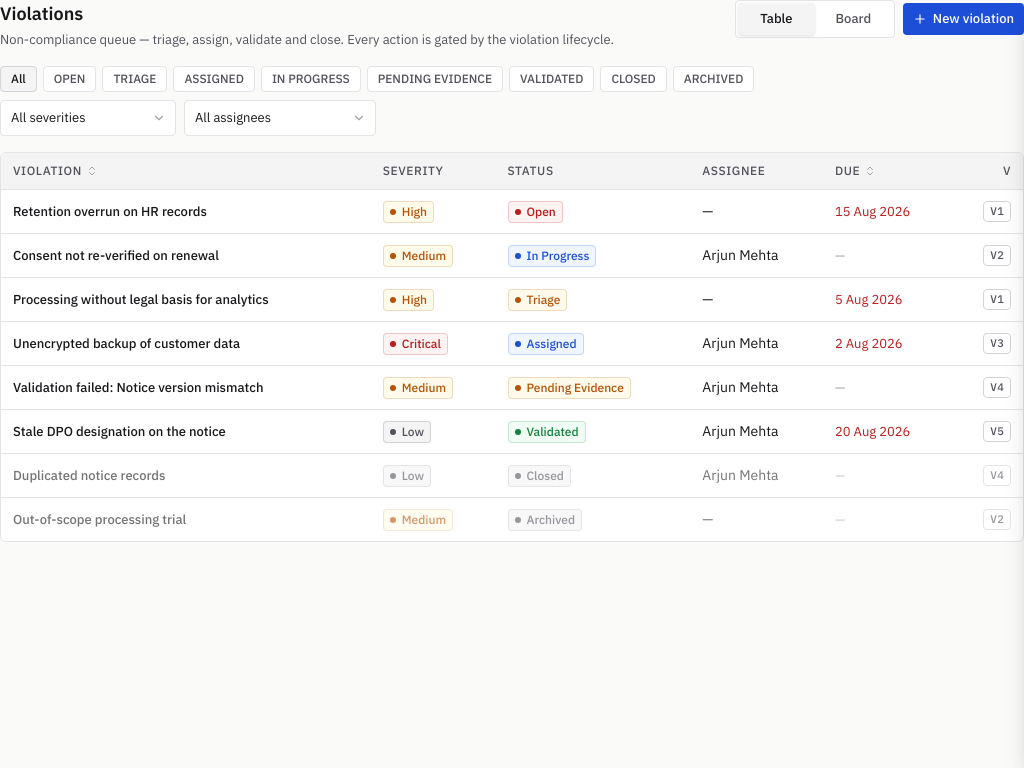
Test: ViolationsView (§9.8) › shows terminal violations as immutable with their resolution
Click the text "Duplicated notice records". click: click(89, 475)
box: [13,467,166,484]
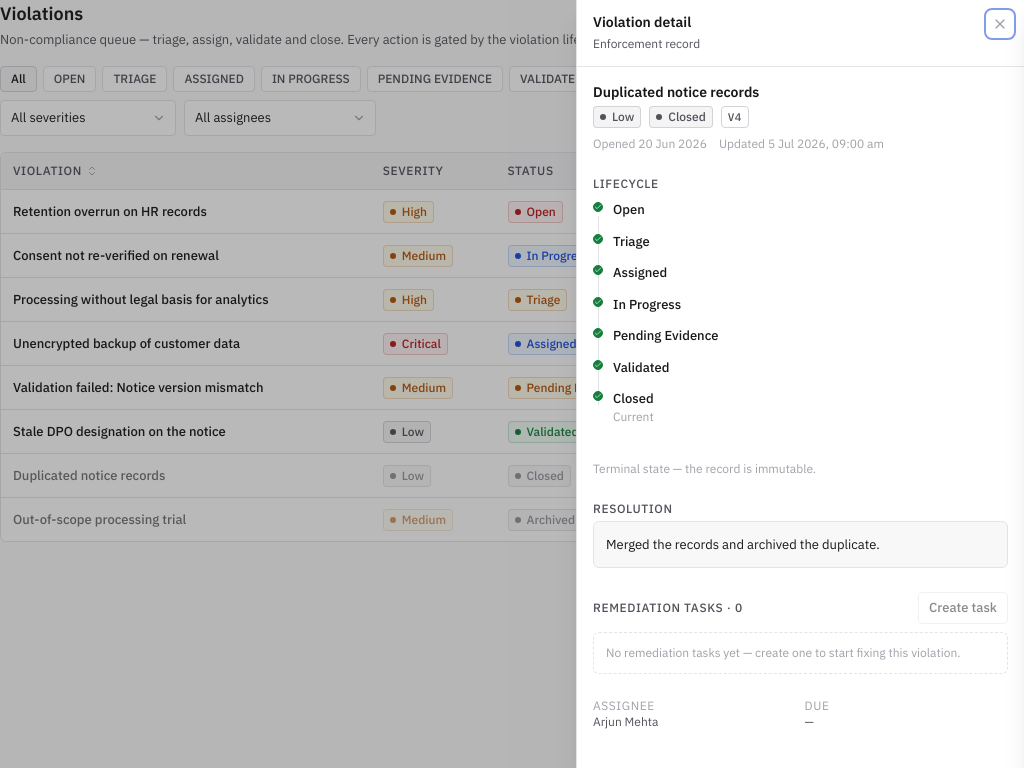
Expected: the text "Terminal state — the record is immutable." is shown, [593,461,816,476]
Expected: the text "Merged the records and archived the duplicate." is shown, [593,521,1008,568]
